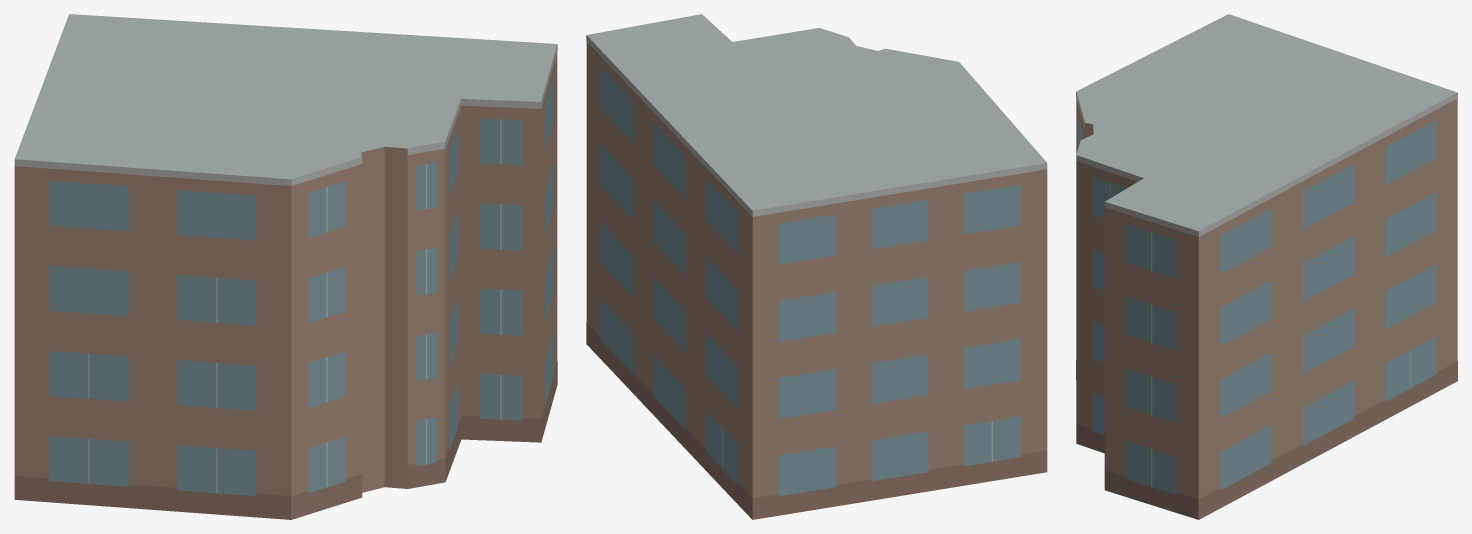
The model's file is survey-upis-32927835.glb.
3 views of the same model, side by side, from view 1: azimuth 30°, elevation 25°; view 2: azimuth 150°, elevation 25°; view 3: azimuth 270°, elevation 25° (orthographic). The views are drawn at different scales.
Visible parts, largest first — view 1: survey-upis-32927835.tmp; view 2: survey-upis-32927835.tmp; view 3: survey-upis-32927835.tmp.
Boxes of the visible parts, left/top/right/bottom form: survey-upis-32927835.tmp: left=14, top=14, right=557, bottom=519; survey-upis-32927835.tmp: left=586, top=14, right=1047, bottom=519; survey-upis-32927835.tmp: left=1076, top=14, right=1457, bottom=519.
Bounding box in the file's own units: 19.7 × 12.2 × 14.62.
